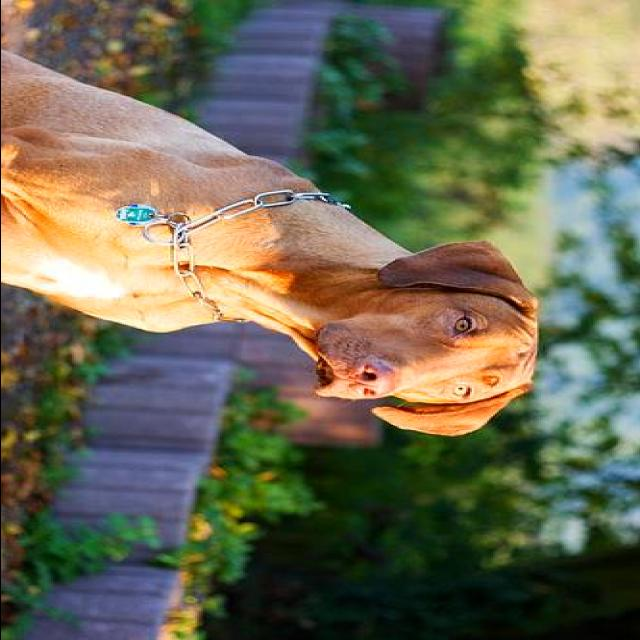rhodesian_ridgeback: (2, 48, 534, 436)
